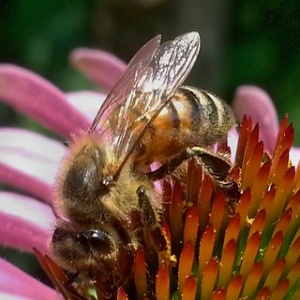bee: (48, 29, 246, 286)
